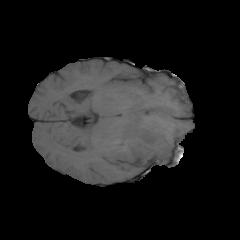glioma: (117, 112, 186, 166)
